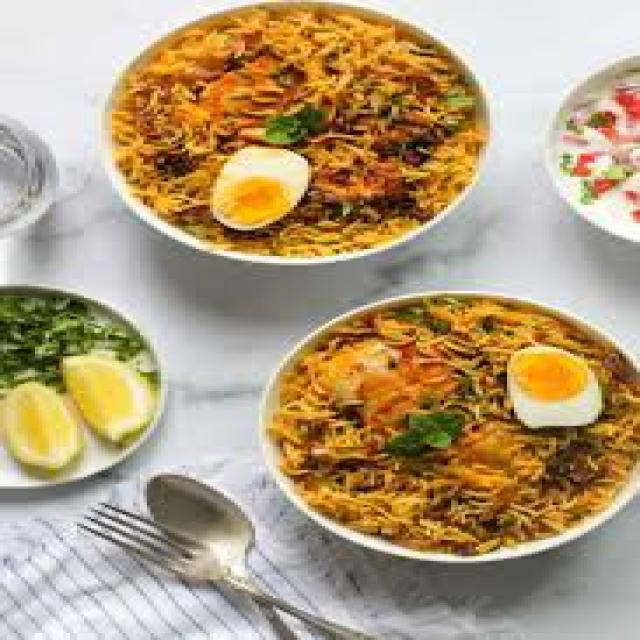chicken biryani: (115, 21, 487, 265), (282, 346, 633, 554)
